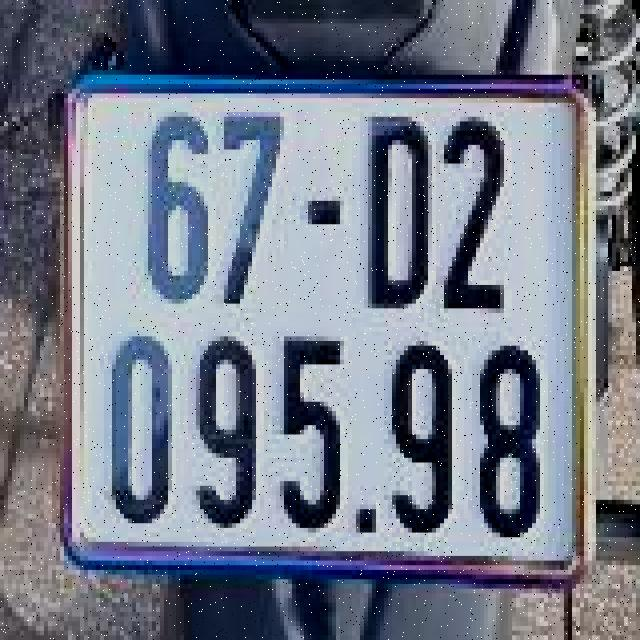0: (102, 316, 182, 530)
2: (442, 117, 506, 322)
5: (272, 322, 352, 532)
6: (138, 110, 210, 310)
7: (216, 98, 292, 313)
8: (478, 334, 550, 554)
9: (378, 325, 466, 544), (178, 318, 266, 532)
D: (348, 103, 432, 308)
